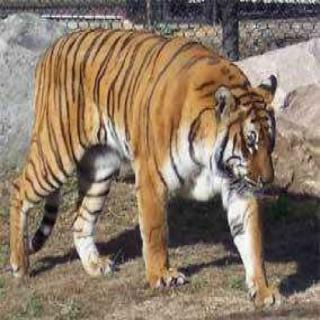Tiger: (6, 26, 283, 308)
